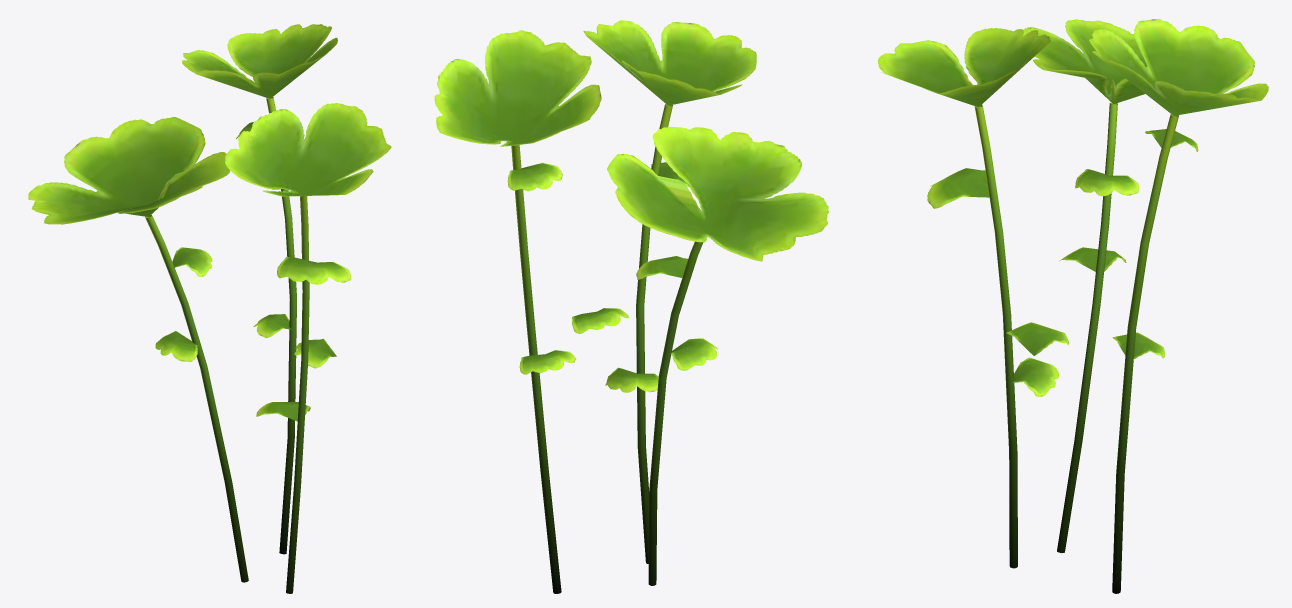
Rendered from klover.glb.
3 views of the same model, side by side, from view 1: azimuth 30°, elevation 25°; view 2: azimuth 150°, elevation 25°; view 3: azimuth 270°, elevation 25° (orthographic). The views are drawn at different scales.
Parts seen in each view (by area): view 1: Clover_1; view 2: Clover_1; view 3: Clover_1.
Boxes of the visible parts, bbox=[...] form: Clover_1: bbox=[28, 24, 391, 593]; Clover_1: bbox=[434, 20, 828, 593]; Clover_1: bbox=[878, 19, 1268, 593].
Size of the model in its own units: 0.7963 by 1.14 by 0.7639.
1 material, 1 textured.
